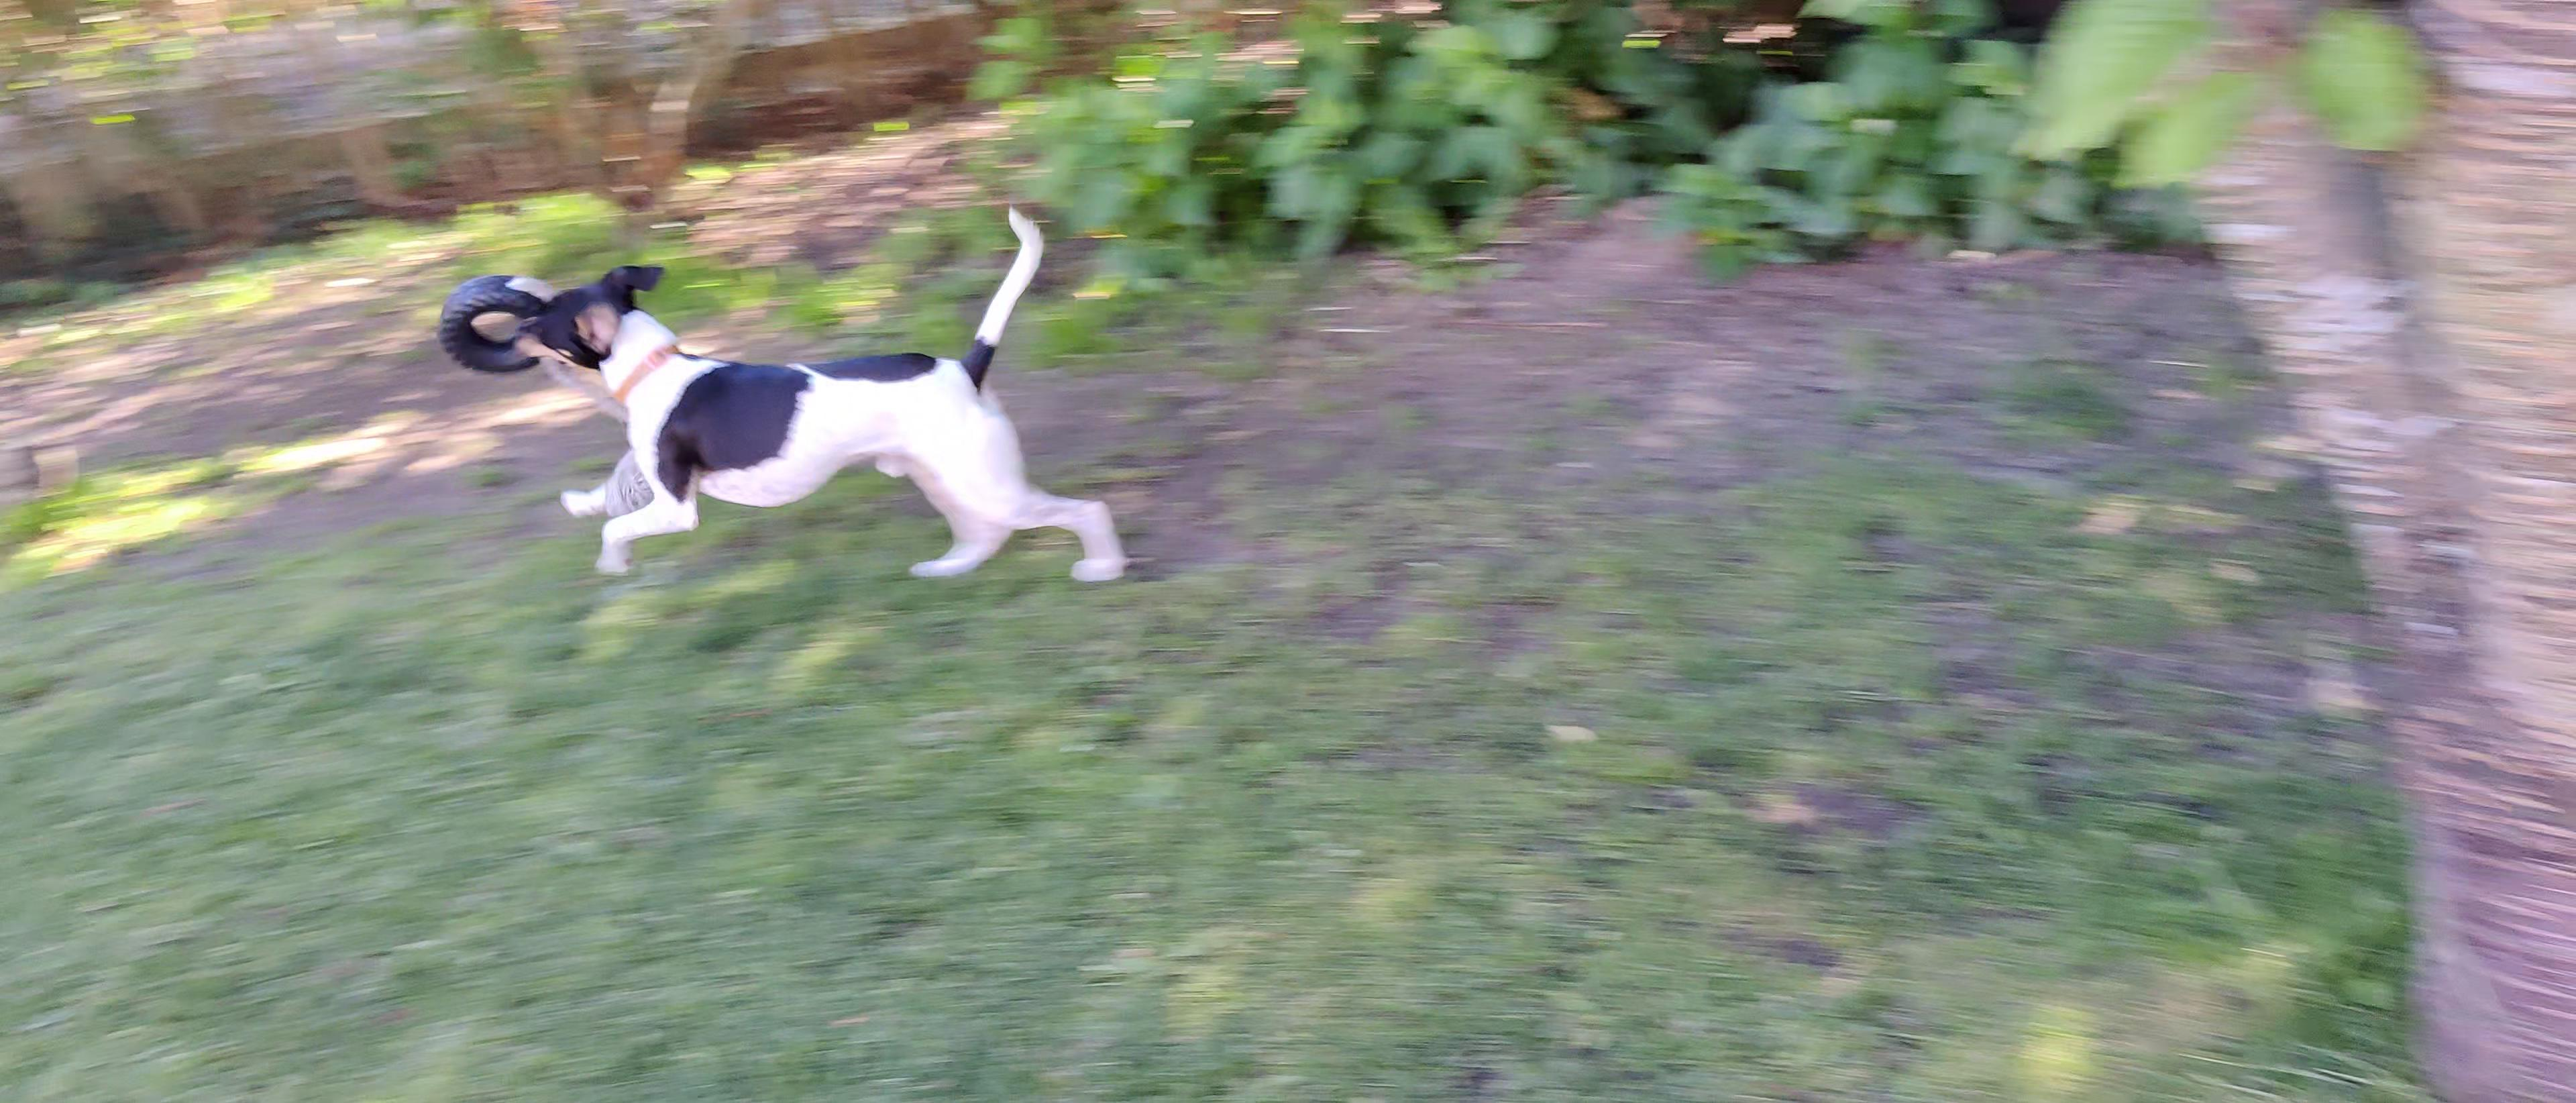Dog: (509, 202, 1132, 592)
